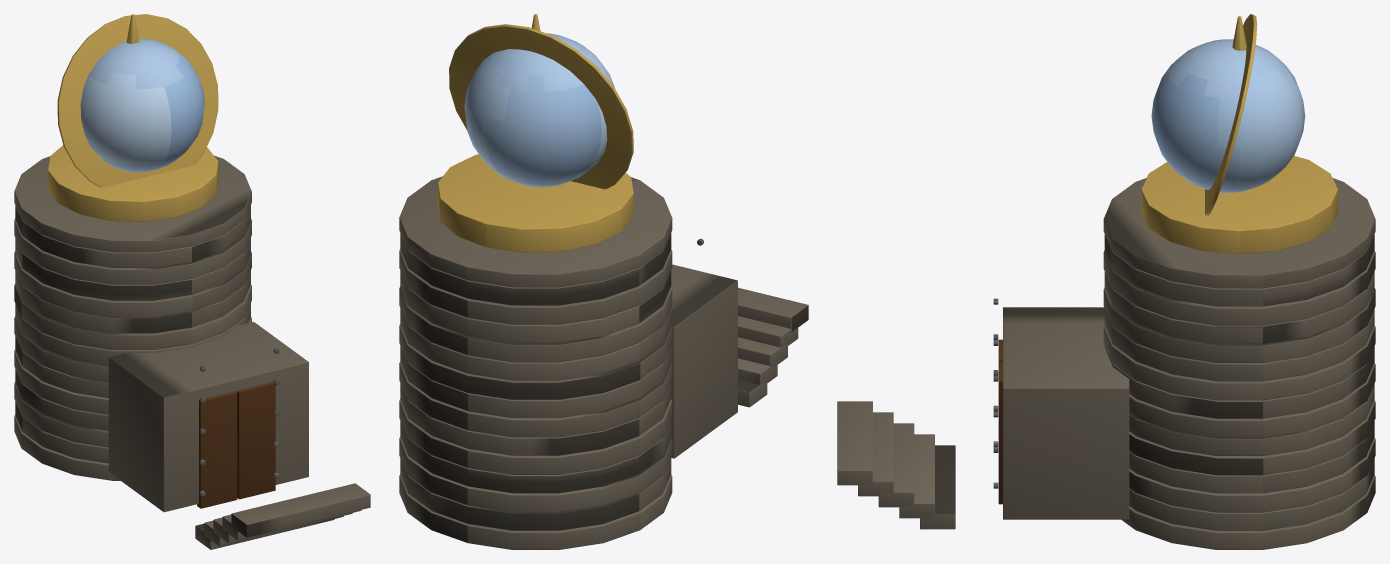
Rendered from building_university_far_glass.fbx.
The picture shows the model from 3 angles, left to right: view 1: azimuth 30°, elevation 25°; view 2: azimuth 150°, elevation 25°; view 3: azimuth 270°, elevation 25°; orthographic projection. The views are drawn at different scales.
Parts seen in each view (by area): view 1: building_university_far_glass; view 2: building_university_far_glass; view 3: building_university_far_glass.
Part boxes in pixels (x1,y1,x2,y2): building_university_far_glass: (14,14,370,549); building_university_far_glass: (399,14,808,549); building_university_far_glass: (837,14,1375,549).
Size of the model in its own units: 2.86 by 5.63 by 5.74.
